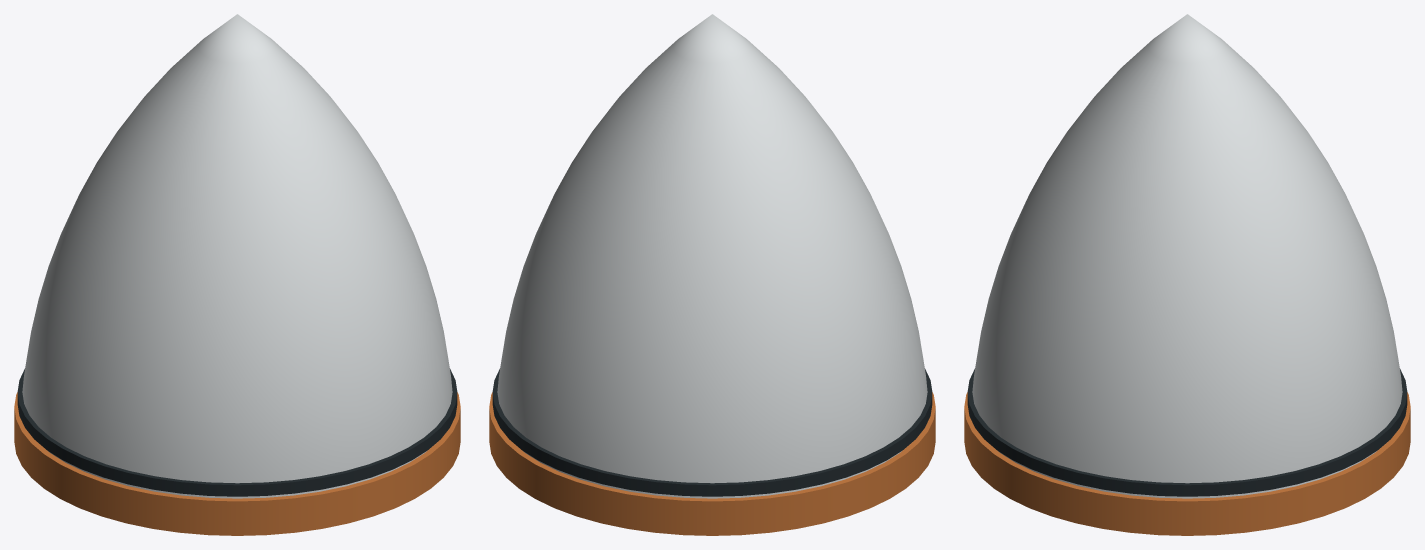
The model's file is procedural-srb-nose-cone.glb.
3 views of the same model, side by side, from view 1: azimuth 30°, elevation 25°; view 2: azimuth 150°, elevation 25°; view 3: azimuth 270°, elevation 25° (orthographic).
Parts seen in each view (by area): view 1: SM_SRB_NoseCone_Shell, SM_SRB_NoseCone_BaseCollar, SM_SRB_NoseCone_Seal; view 2: SM_SRB_NoseCone_Shell, SM_SRB_NoseCone_BaseCollar, SM_SRB_NoseCone_Seal; view 3: SM_SRB_NoseCone_Shell, SM_SRB_NoseCone_BaseCollar, SM_SRB_NoseCone_Seal.
Boxes of the visible parts, x1,y1,x2,y2 form: SM_SRB_NoseCone_Shell: [22, 14, 452, 498]; SM_SRB_NoseCone_BaseCollar: [14, 392, 460, 535]; SM_SRB_NoseCone_Seal: [17, 369, 457, 496]; SM_SRB_NoseCone_Shell: [497, 14, 927, 498]; SM_SRB_NoseCone_BaseCollar: [489, 392, 935, 535]; SM_SRB_NoseCone_Seal: [492, 369, 932, 496]; SM_SRB_NoseCone_Shell: [972, 14, 1402, 498]; SM_SRB_NoseCone_BaseCollar: [964, 392, 1410, 535]; SM_SRB_NoseCone_Seal: [967, 369, 1407, 496].
Size of the model in its own units: 1.23 by 1.3 by 1.23.
